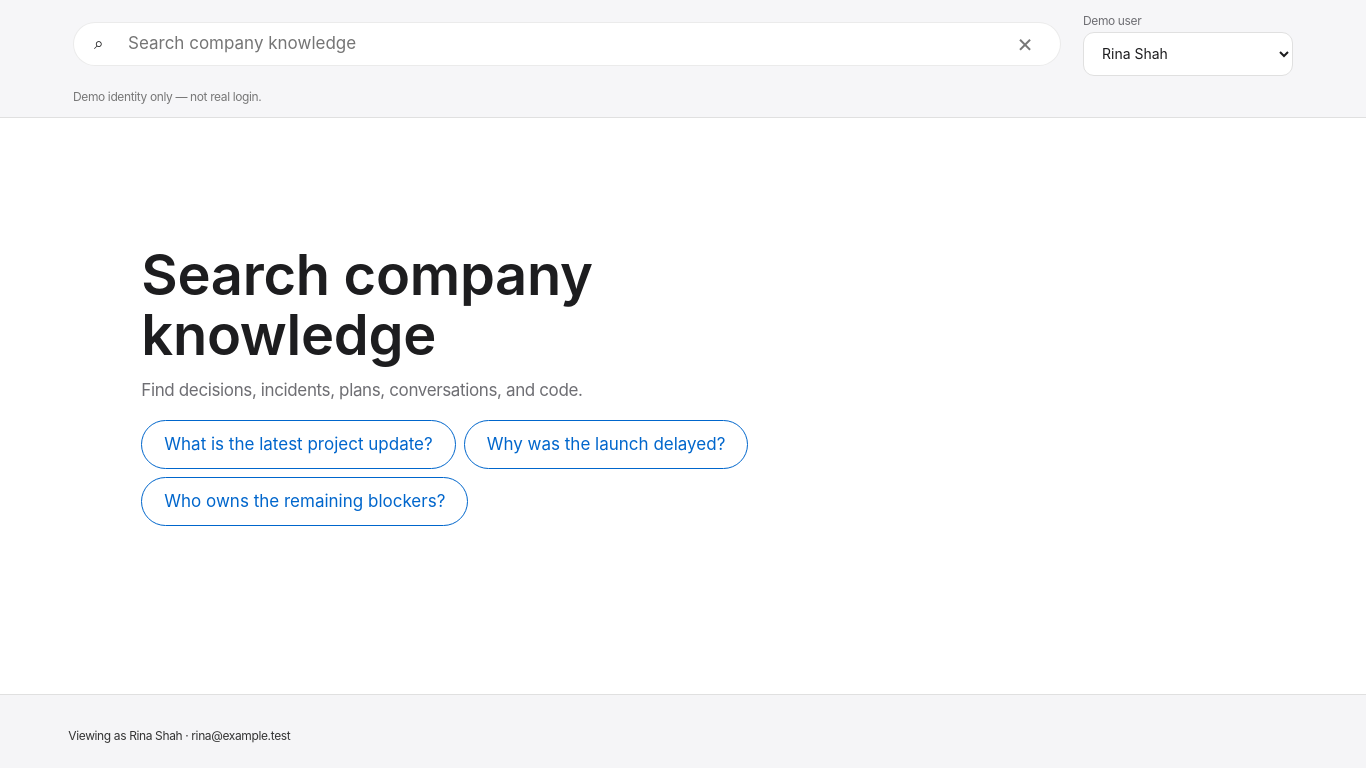
Test: keeps the latest successful suggestions when a follow-up fails
The width and height of the screenshot is (1366, 768).
Expected: the text "Demo identity only — not real login." is shown, x1=73 y1=89 x2=261 y2=104
Step 1. Type "pool timeout" into the search field → [562, 44], box x1=126 y1=30 x2=998 y2=57
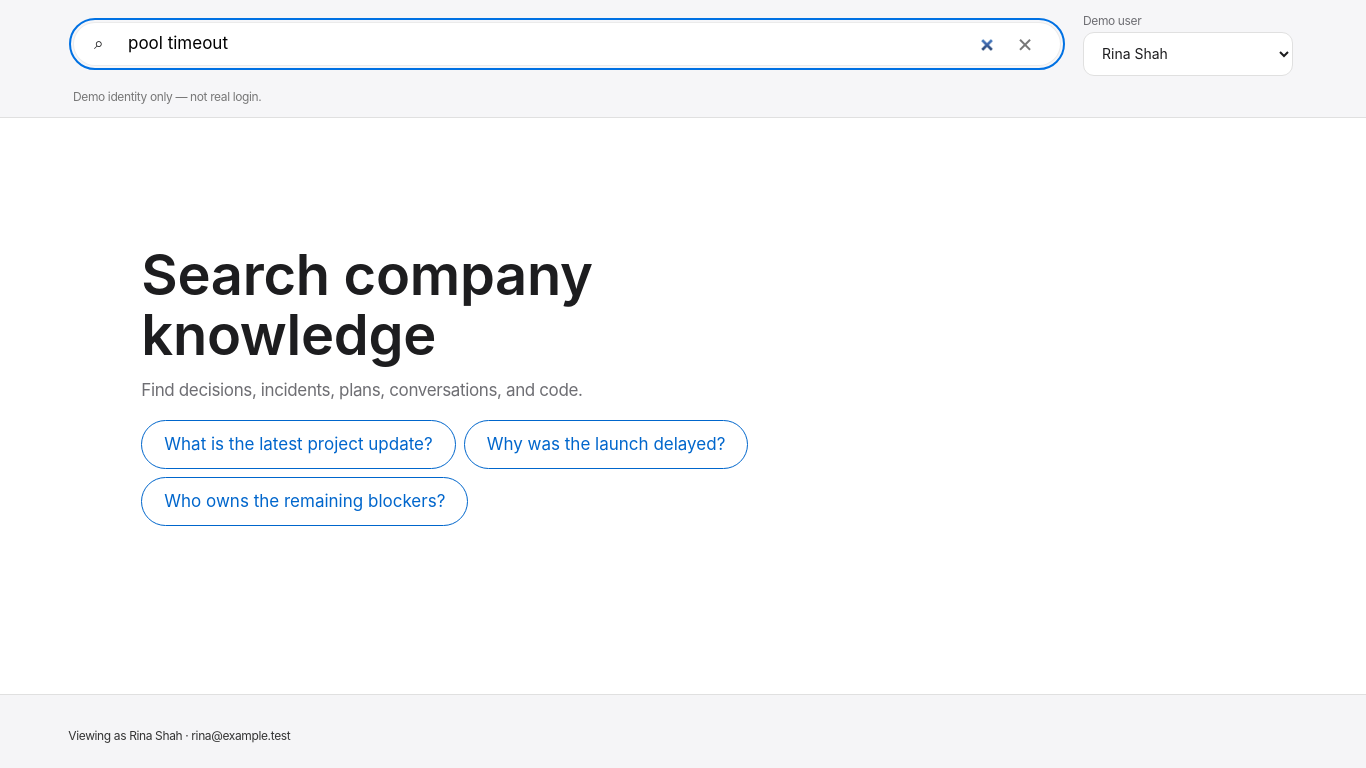
Step 2. Press Enter
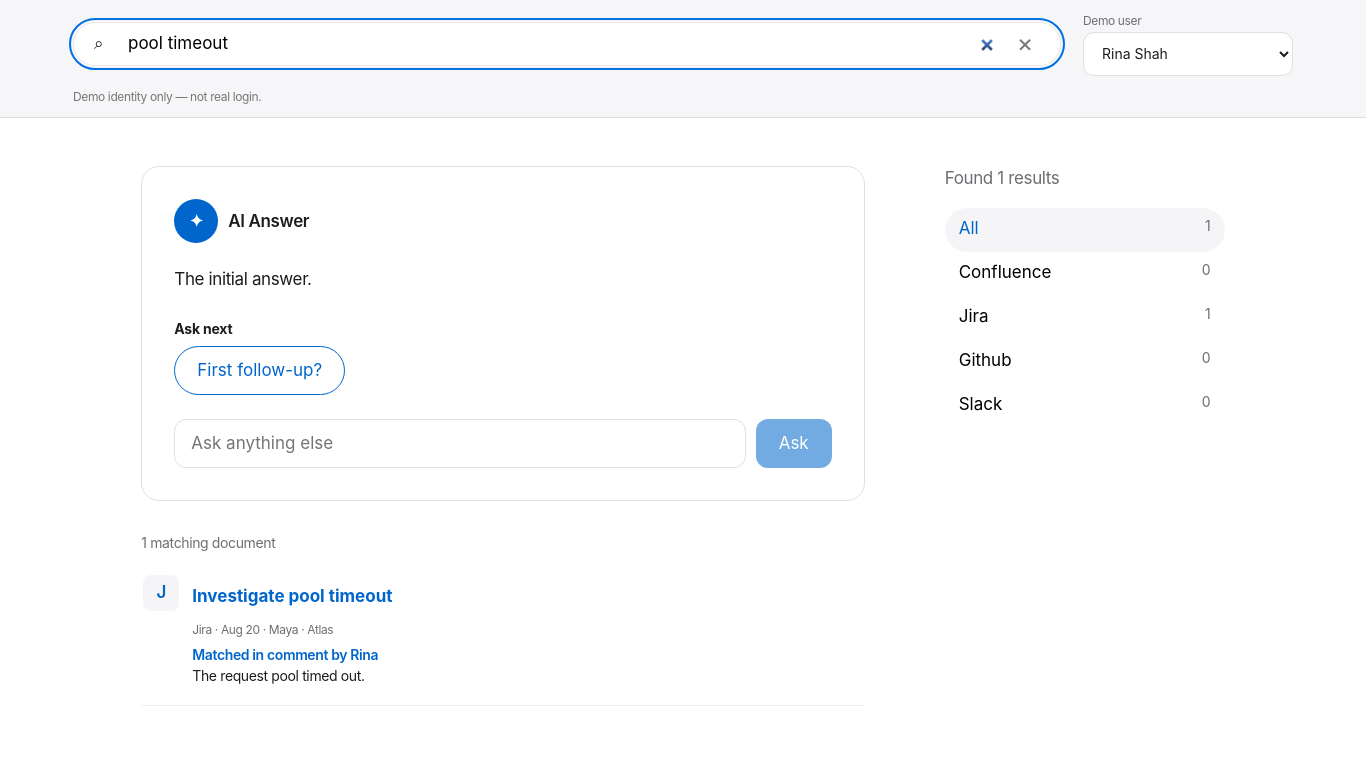
Step 3. Click the button "First follow-up?" → [260, 371], box x1=174 y1=346 x2=345 y2=395
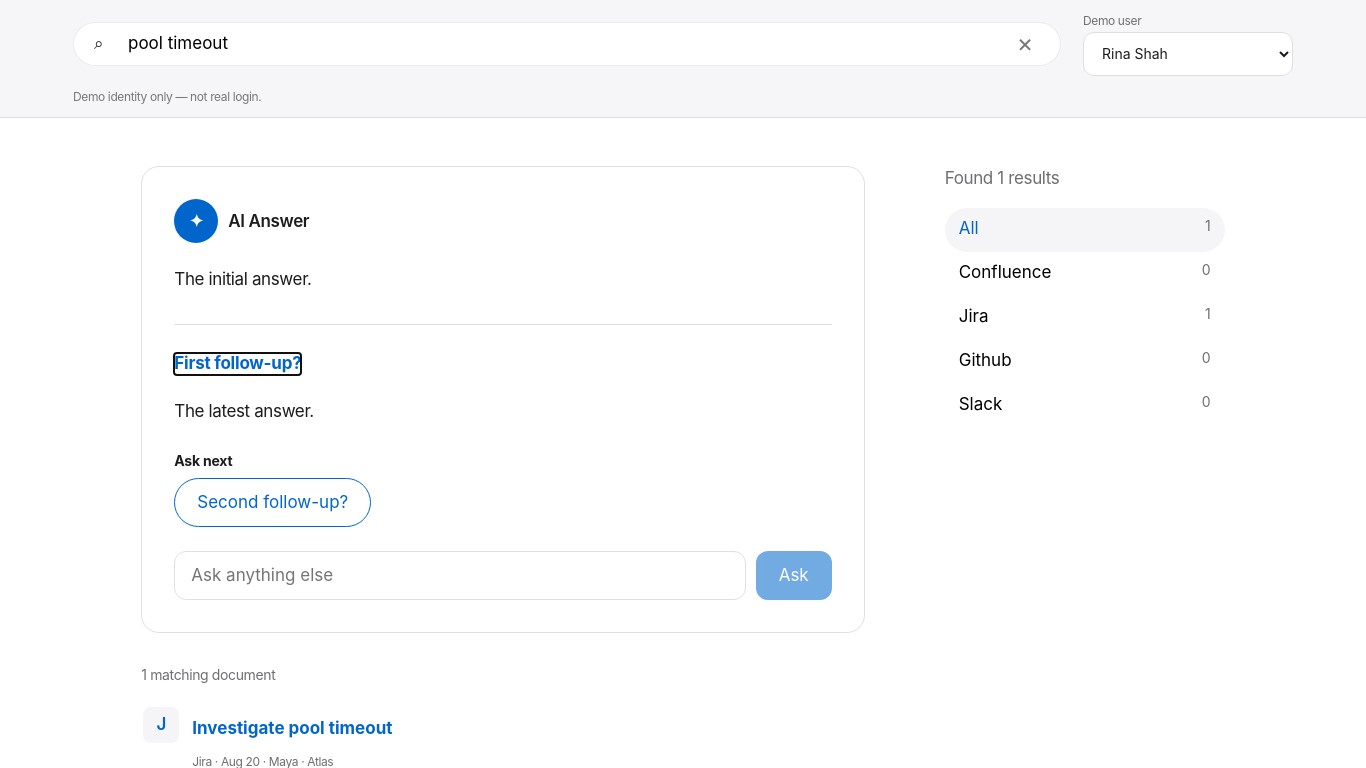
Result: the text "The latest answer." is shown at x1=174 y1=401 x2=314 y2=421
Step 4. Click the button "Second follow-up?" → [273, 503], box x1=174 y1=478 x2=371 y2=527
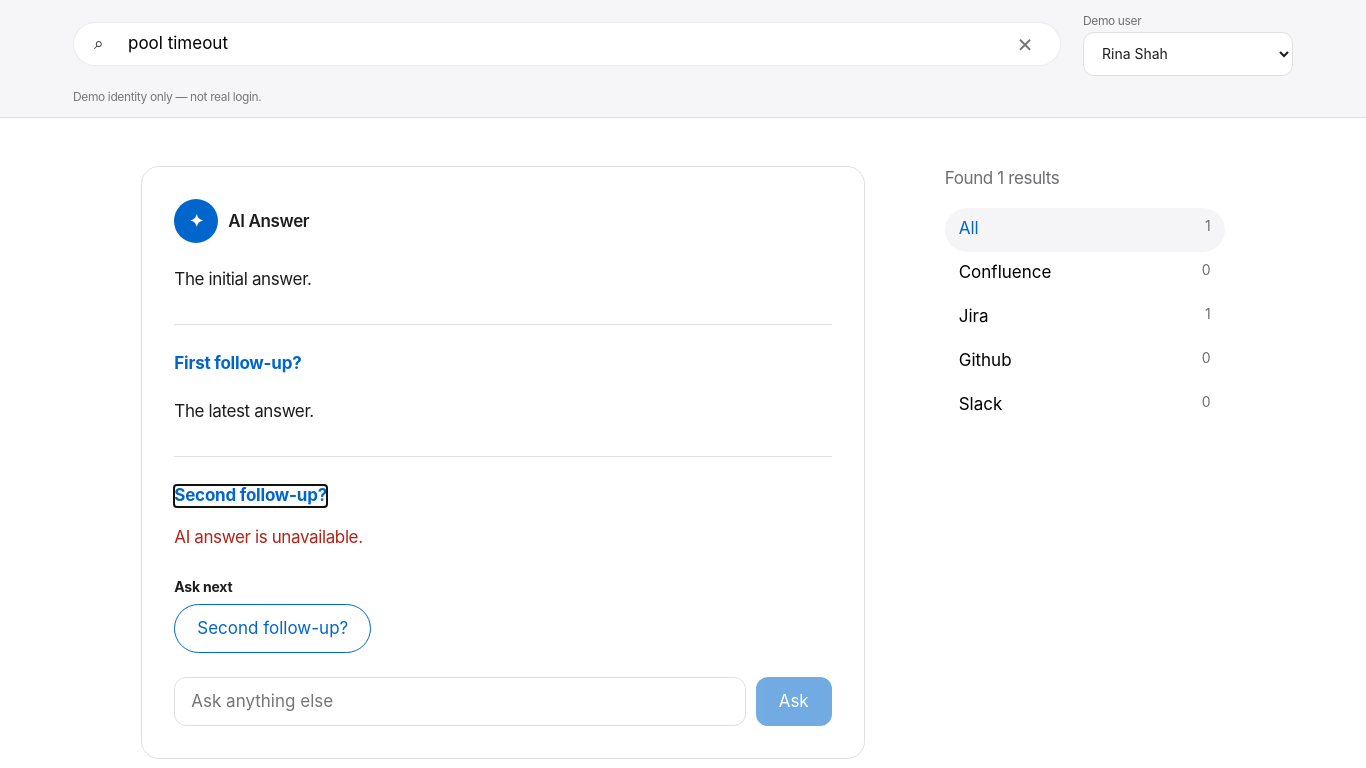
Result: the button "Second follow-up?" is shown at x1=174 y1=604 x2=371 y2=653
Result: the message shows "AI answer is unavailable" at x1=174 y1=527 x2=363 y2=547
